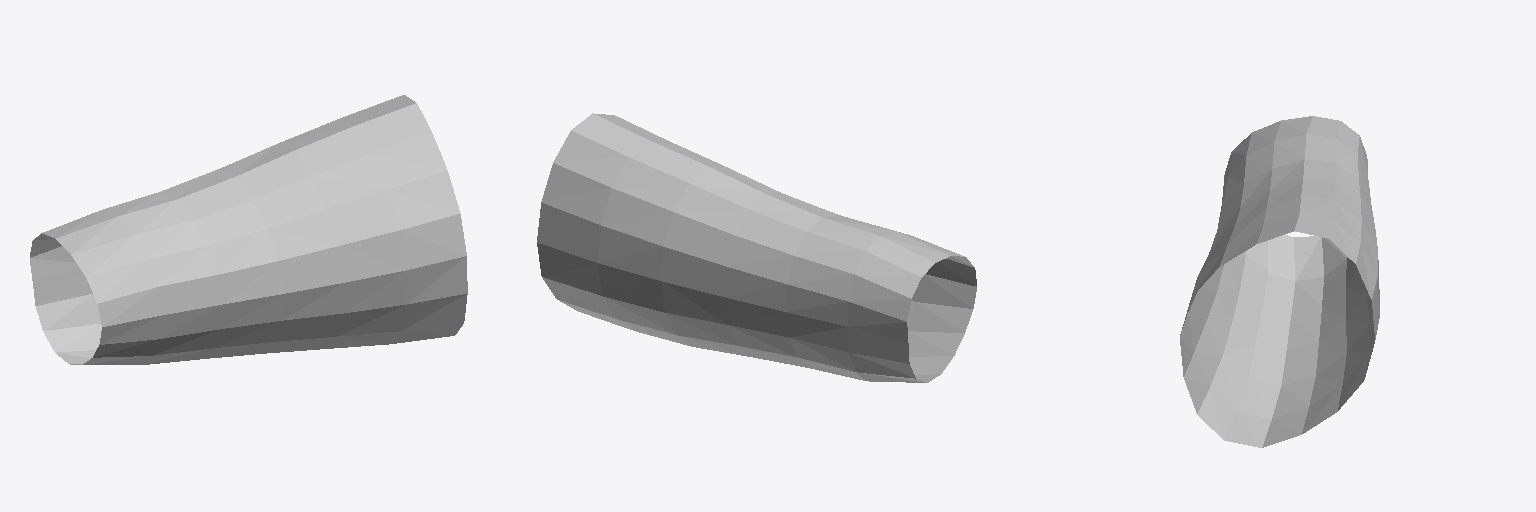
File: RightElbow.obj
3 renders of one model, left to right at view 1: azimuth 30°, elevation 25°; view 2: azimuth 150°, elevation 25°; view 3: azimuth 270°, elevation 25°, orthographic.
Visible parts, largest first — view 1: polySurface31 polySurface1; view 2: polySurface31 polySurface1; view 3: polySurface31 polySurface1.
Part boxes in pixels (x1,y1,x2,y2): polySurface31 polySurface1: (30,95,467,364); polySurface31 polySurface1: (537,113,976,382); polySurface31 polySurface1: (1180,116,1379,447).
Bounding box in the file's own units: 6.43 × 3.56 × 3.03.